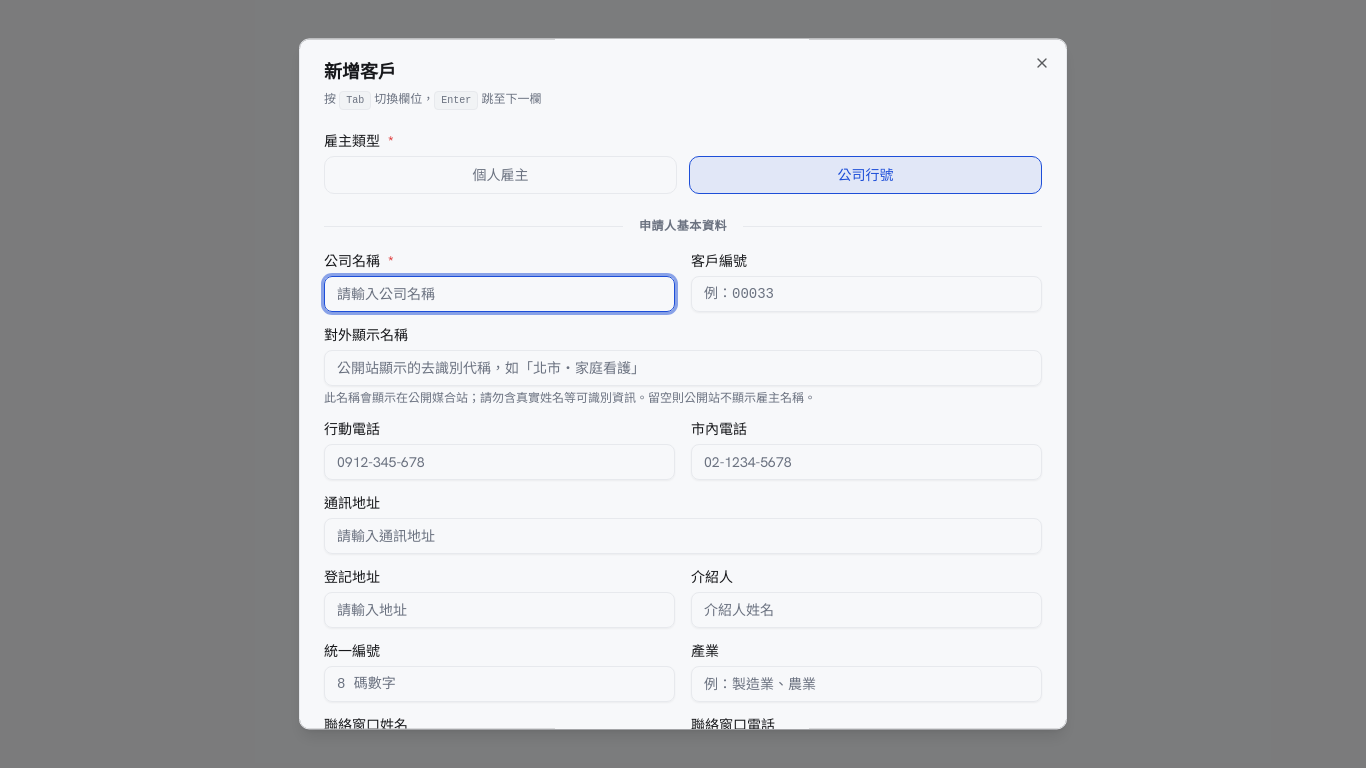
Test: CustomerModal 的必填判斷 › 只差最後一項時，清單就只剩那一項
Type "台灣精密" into the field with test id "customer-modal-name". click: (500, 295)
box: left=324, top=277, right=675, bottom=313
(page scrolled)
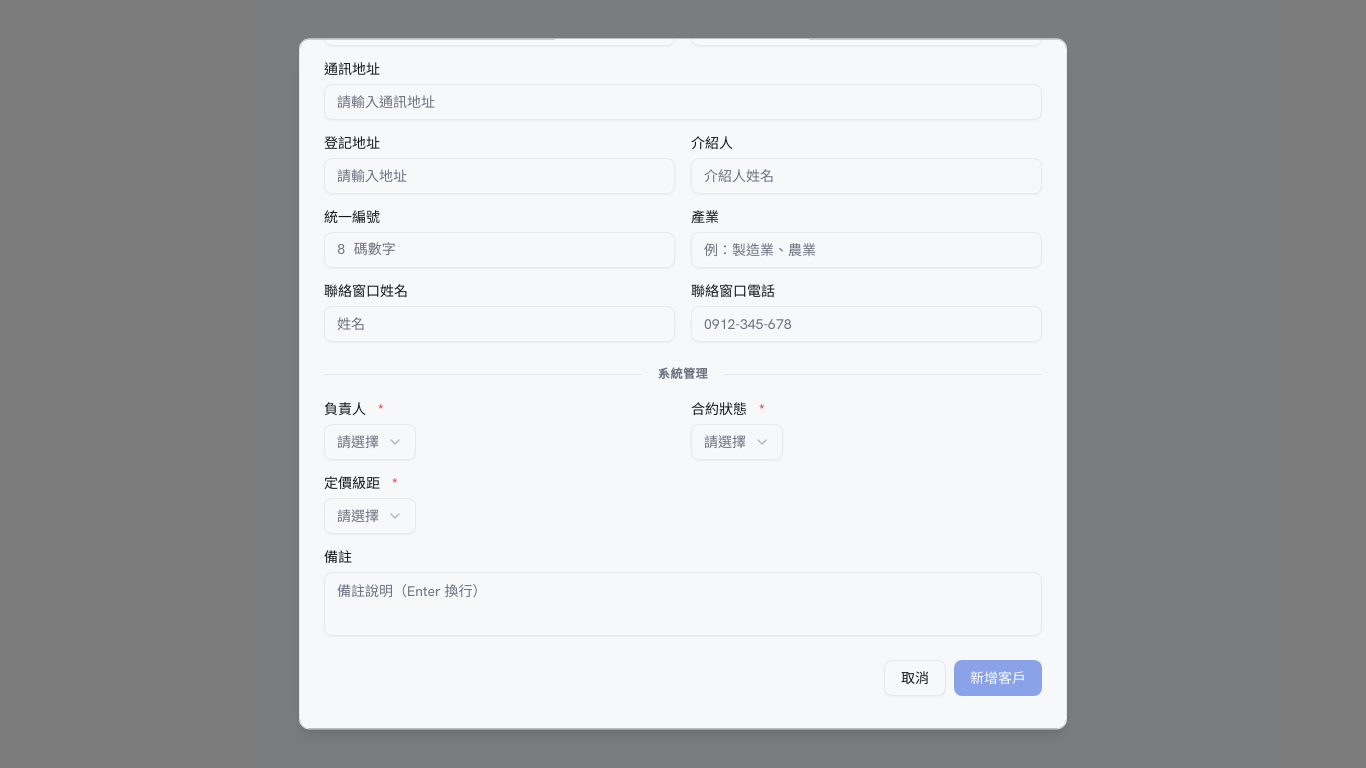
Click the dropdown with test id "customer-modal-managerId". click: click(370, 443)
box: left=324, top=425, right=416, bottom=461
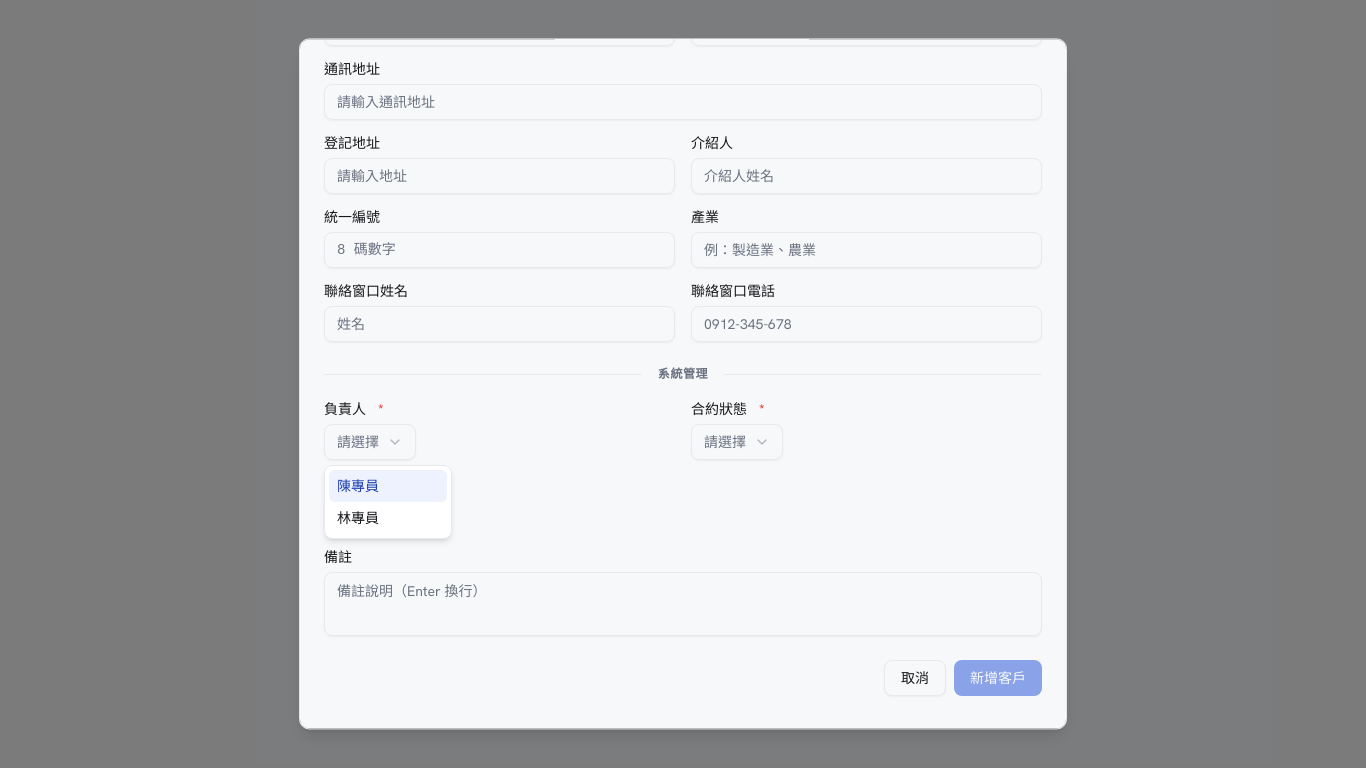
Click the option "陳專員". click: click(388, 486)
box: left=329, top=470, right=447, bottom=502
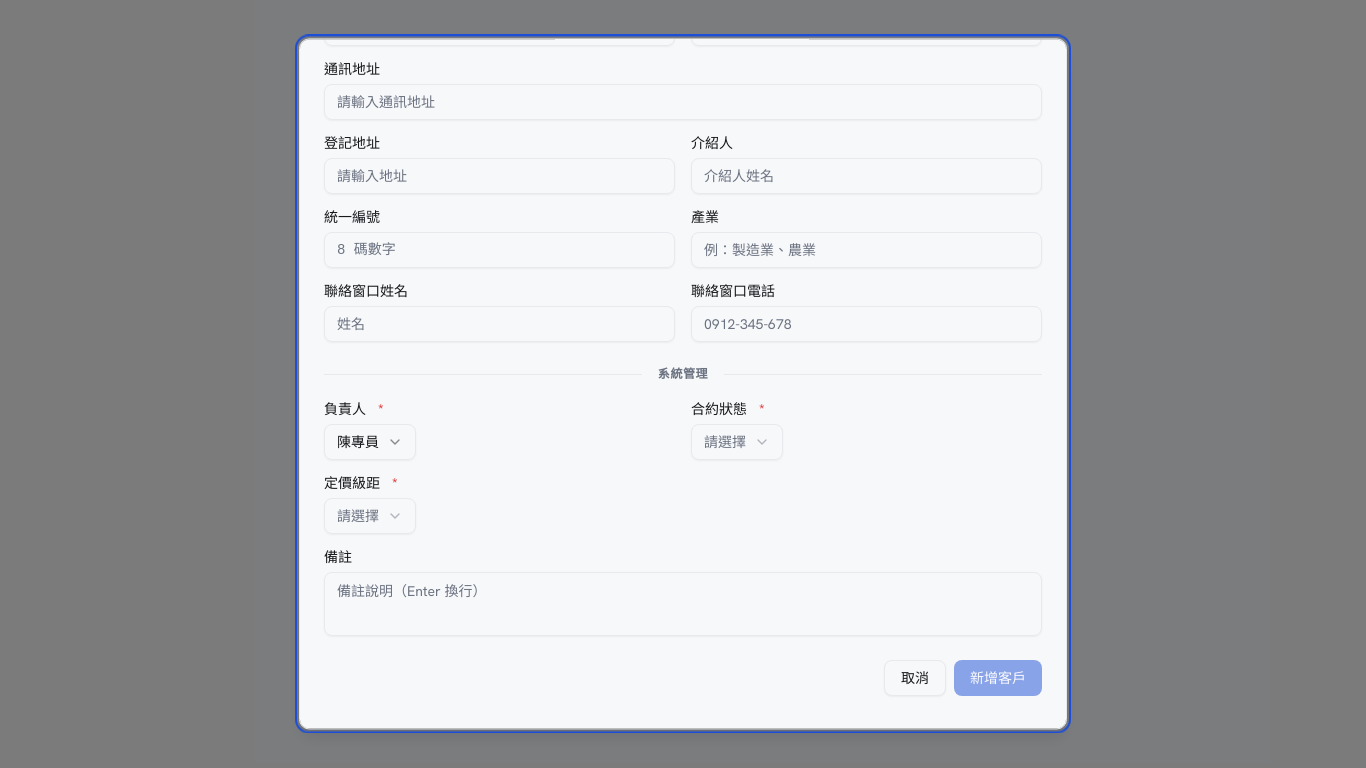
Click the dropdown with test id "customer-modal-contractStatus". click: click(737, 443)
box: left=691, top=425, right=783, bottom=461
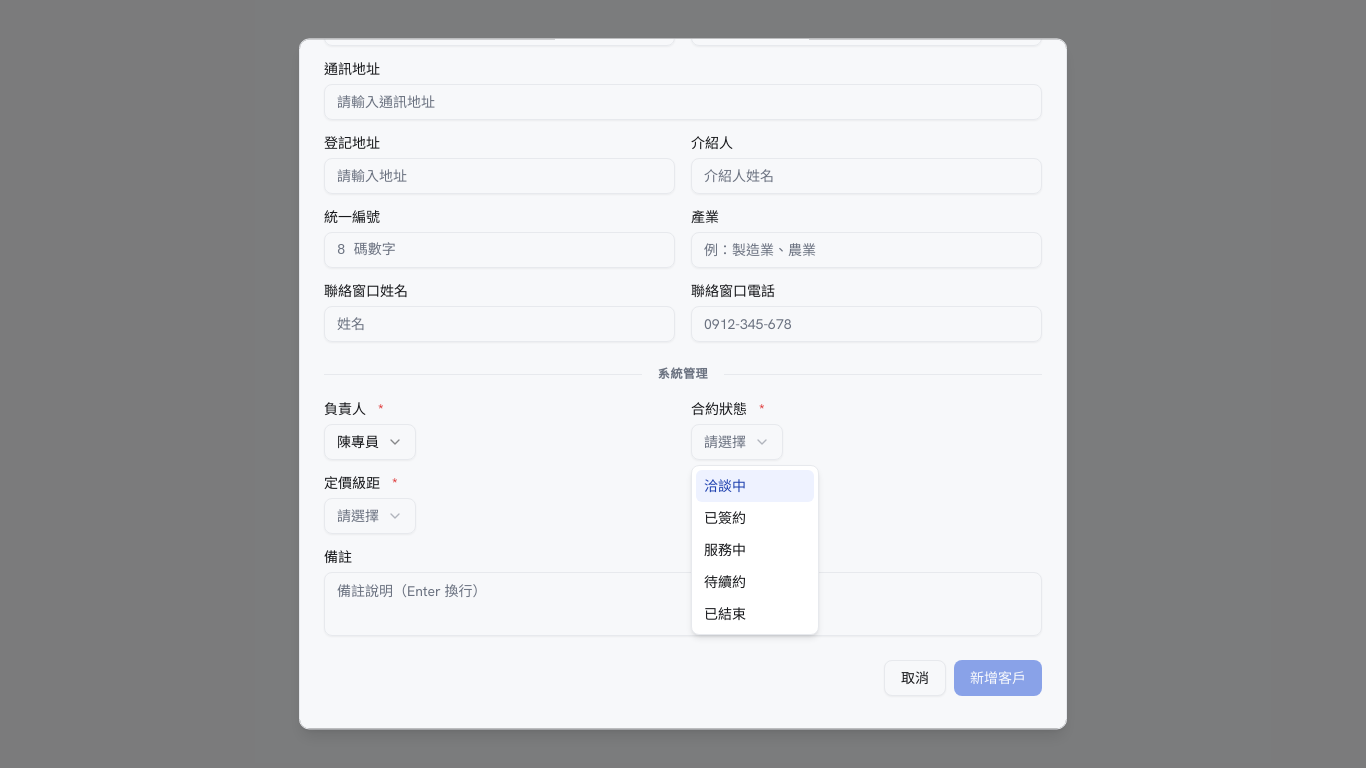
Click the option "已簽約". click: click(725, 518)
box: left=704, top=509, right=746, bottom=527
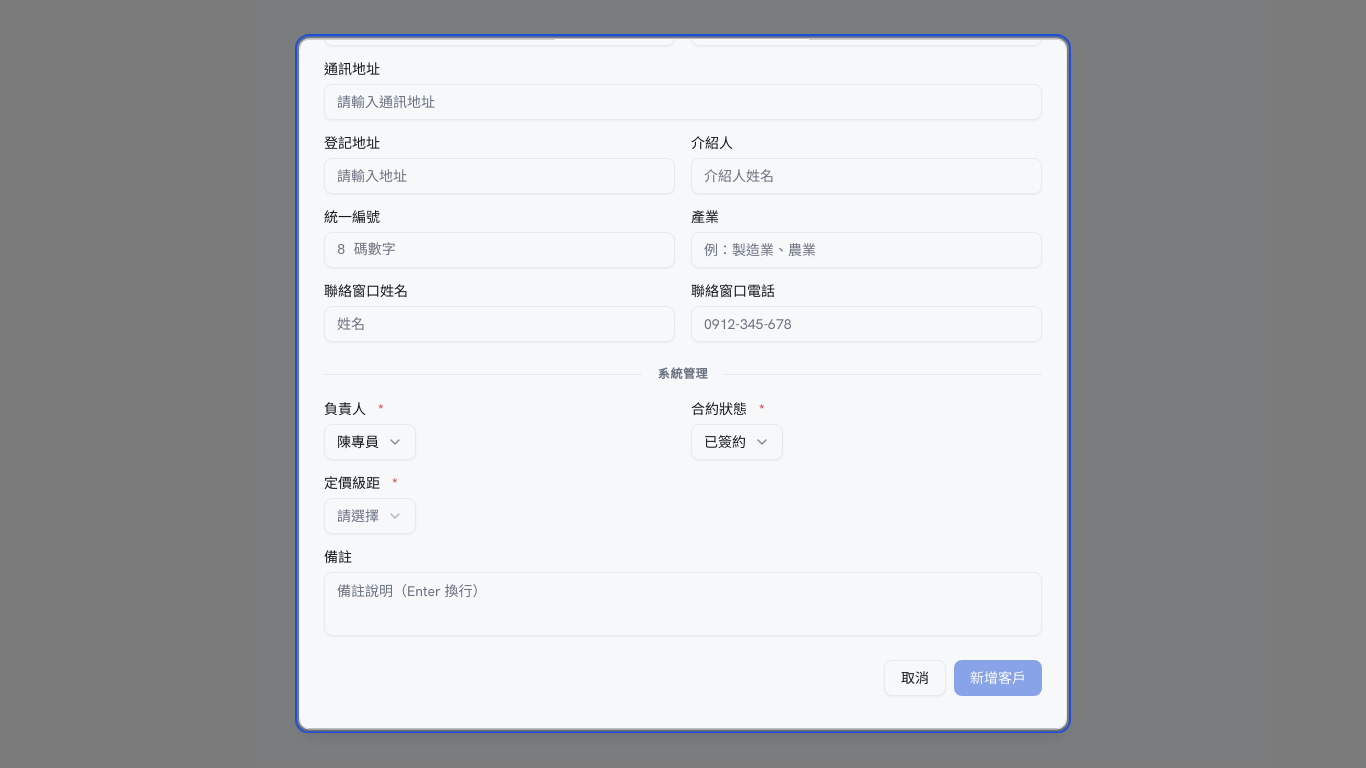
Hover over the element with test id "customer-modal-submit-wrap" at (998, 679), box left=954, top=661, right=1042, bottom=697
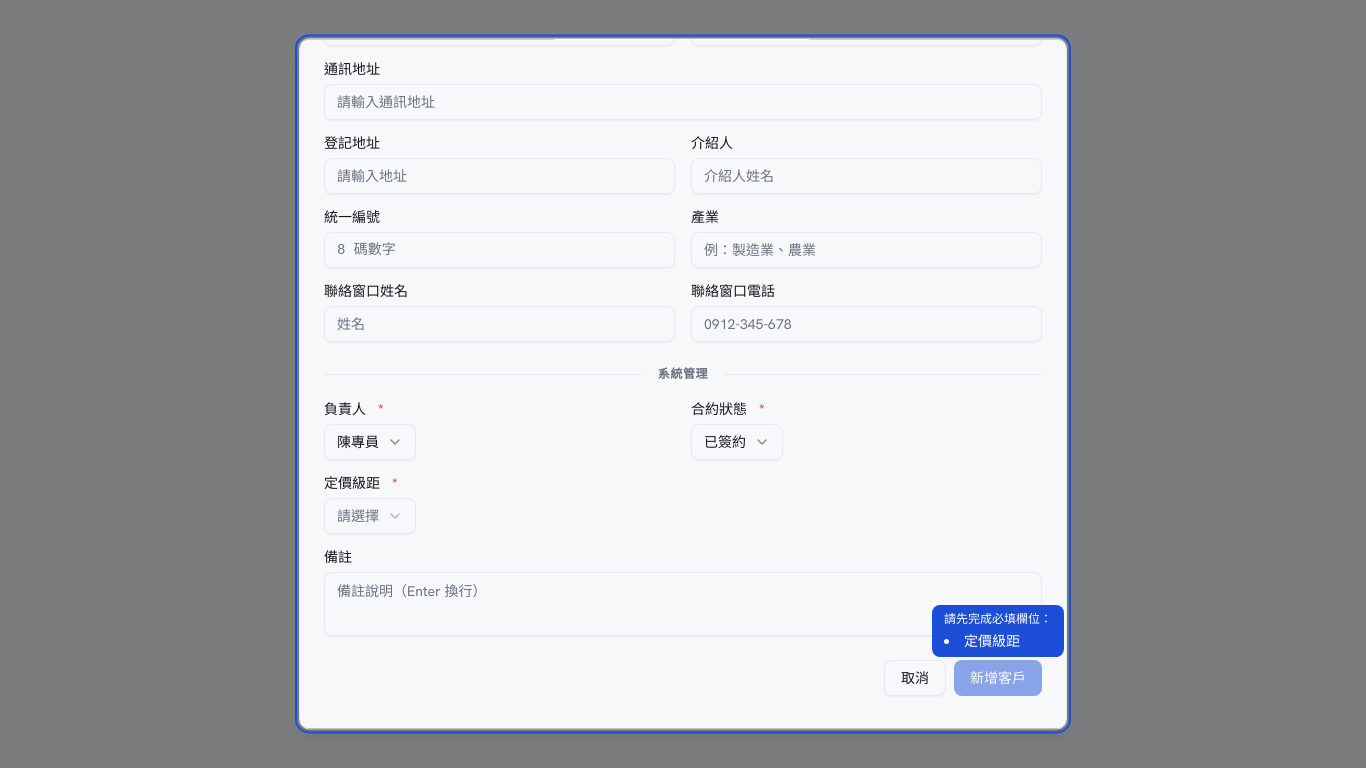
Check: the tooltip does not show "合約狀態", box left=932, top=605, right=1064, bottom=657
Check: the tooltip shows "定價級距", box left=964, top=632, right=1020, bottom=650
